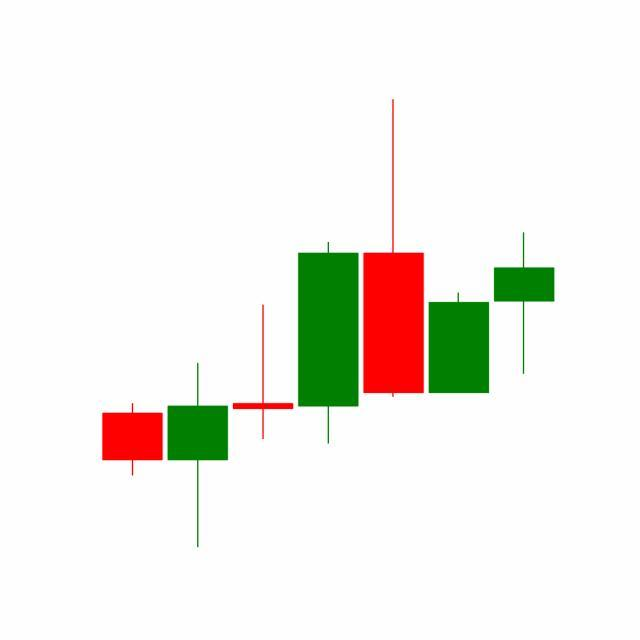Hikkake Pattern: (229, 99, 555, 449)
